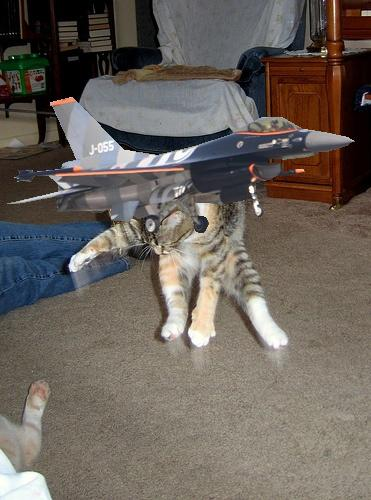tampered: (8, 98, 355, 233)
